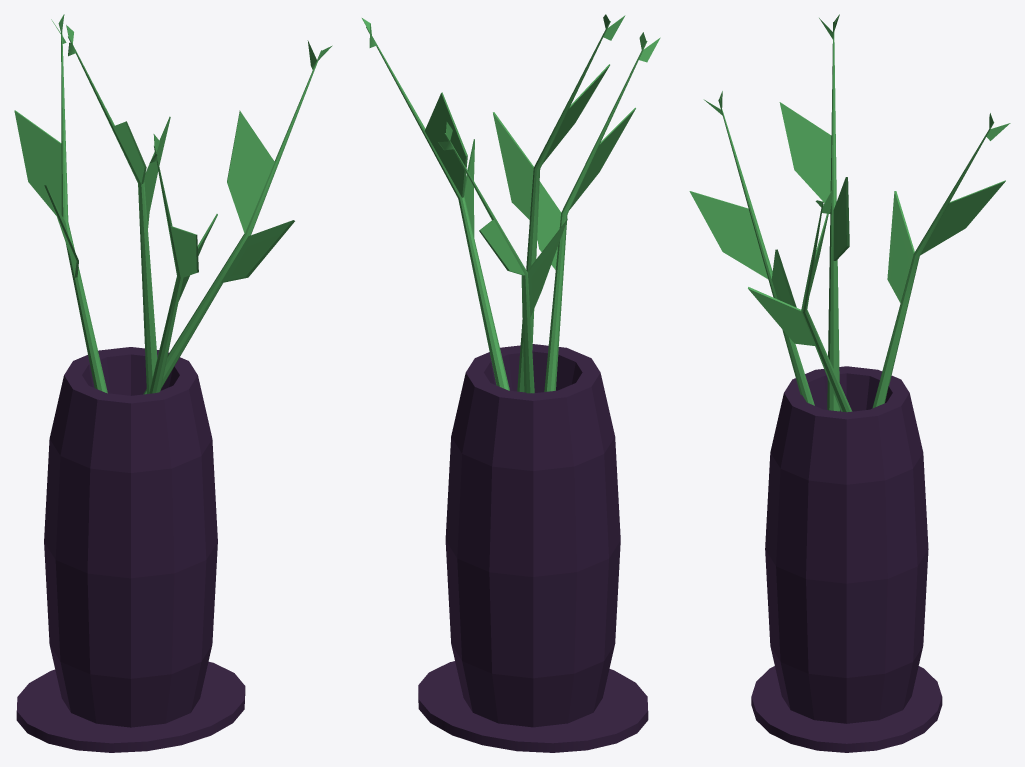
Rendered from Plant Pot.fbx.
3 views of the same model, side by side, from view 1: azimuth 30°, elevation 25°; view 2: azimuth 150°, elevation 25°; view 3: azimuth 270°, elevation 25° (orthographic). The views are drawn at different scales.
Visible parts, largest first — view 1: Flower_Pot, pasted__branch (×3), FlowerPotBase, branch; view 2: Flower_Pot, pasted__branch (×3), FlowerPotBase, branch; view 3: Flower_Pot, pasted__branch (×3), FlowerPotBase, branch.
Boxes of the visible parts, x1,y1,x2,y2 form: Flower_Pot: [44, 347, 217, 727]; pasted__branch (×3): [14, 14, 217, 393]; FlowerPotBase: [16, 661, 245, 752]; branch: [143, 40, 332, 394]; Flower_Pot: [445, 344, 620, 727]; pasted__branch (×3): [438, 14, 660, 393]; FlowerPotBase: [418, 661, 648, 752]; branch: [362, 18, 509, 390]; Flower_Pot: [765, 366, 928, 723]; pasted__branch (×3): [689, 14, 1010, 411]; FlowerPotBase: [751, 666, 942, 752]; branch: [748, 189, 852, 412].
Size of the model in its own units: 5.77 by 13.37 by 5.89.
